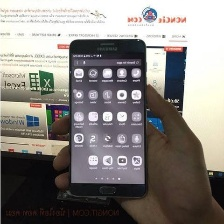phone: (65, 35, 151, 200)
